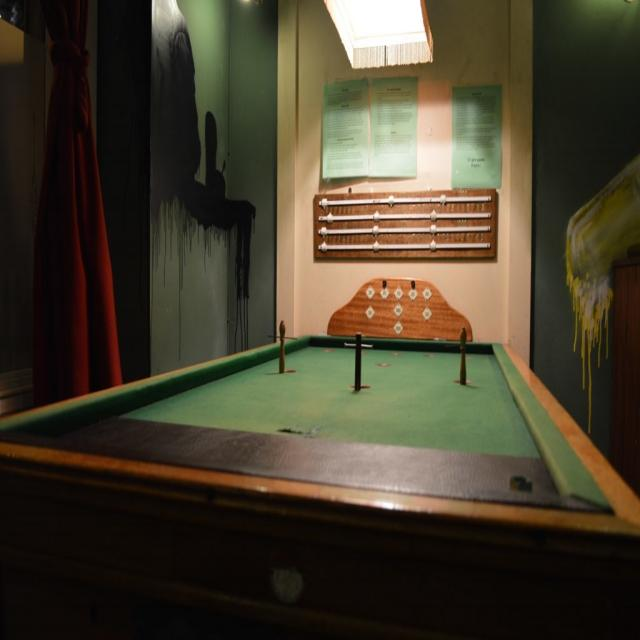Billiard table: (0, 319, 639, 639)
